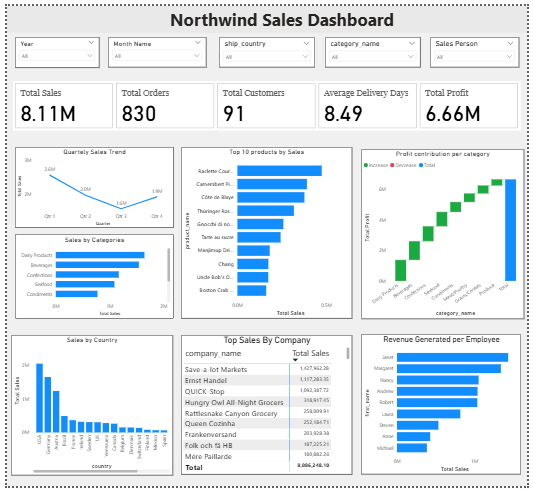

The page's visual inventory and layout, read from the dashboard file:
{"tool":"powerbi","page":{"name":"Page 1","canvas":[1300,1200],"ordinal":0},"visuals":[{"type":"textbox","box":[0,0,1386.1,55.6],"z":0},{"type":"cardVisual","fields":{"Data":["northsales order_details.Total Sales","DateTable.Total Orders","northsales customers.Total Customers","northsales order_details.Average Delivery Days","northsales order_details.Total Profit"]},"box":[11.4,168.6,1268.6,124.3],"z":1000},{"type":"slicer","fields":{"Values":["DateTable.Year"]},"box":[20,77.1,211.4,77.1],"z":2000},{"type":"slicer","fields":{"Values":["DateTable.Month Name"]},"box":[252.9,77.1,245.7,75.7],"z":3000},{"type":"slicer","fields":{"Values":["northsales categories.category_name"]},"box":[795.7,77.1,238.6,75.7],"z":4000},{"type":"slicer","fields":{"Values":["northsales employees.first_name"]},"box":[1057.1,77.1,222.9,75.7],"z":5000},{"type":"slicer","fields":{"Values":["northsales orders.ship_country"]},"box":[530,77.1,240,75.7],"z":6000},{"type":"lineChart","title":"Quartely Sales Trend","fields":{"Category":["DateTable.Date.Variation.Date Hierarchy.Year","DateTable.Date.Variation.Date Hierarchy.Quarter","DateTable.Date.Variation.Date Hierarchy.Month","DateTable.Date.Variation.Date Hierarchy.Day"],"Y":["northsales order_details.Total Sales"]},"box":[20,321.4,405.7,211.4],"z":7000},{"type":"clusteredBarChart","title":"Sales by Categories","fields":{"Category":["northsales categories.category_name"],"Y":["northsales order_details.Total Sales"]},"box":[18.6,555.7,405.7,194.3],"z":8000},{"type":"clusteredBarChart","title":"Top 10 products by Sales","fields":{"Category":["northsales products.product_name"],"Y":["northsales order_details.Total Sales"]},"box":[450,321.4,398.6,428.6],"z":9000},{"type":"waterfallChart","title":"Profit contribution per category","fields":{"Category":["northsales categories.category_name"],"Y":["northsales order_details.Total Profit"]},"box":[871.4,324.3,407.1,425.7],"z":10000},{"type":"columnChart","title":"Sales by Country","fields":{"Y":["northsales order_details.Total Sales"],"Category":["northsales customers.country"]},"box":[20,782.9,404.3,350],"z":10001},{"type":"pivotTable","title":"Top Sales By Company","fields":{"Rows":["northsales customers.company_name"],"Values":["northsales order_details.Total Sales"]},"box":[435.7,782.9,428.6,350],"z":10002},{"type":"clusteredBarChart","title":"Revenue Generated per Employee","fields":{"Category":["northsales employees.first_name"],"Y":["northsales order_details.Total Sales"]},"box":[880,782.9,398.6,350],"z":10003}]}

Visuals, with their boxes in screenshot pixels (x1, y1, x2, y2), scaled from the page's 1300x1200 canvas onto the 533x490 screenshot:
textbox: [0, 0, 532, 23]
cardVisual - northsales order_details.Total Sales x DateTable.Total Orders: [5, 69, 525, 120]
slicer - DateTable.Year: [8, 31, 95, 63]
slicer - DateTable.Month Name: [104, 31, 204, 62]
slicer - northsales categories.category_name: [326, 31, 424, 62]
slicer - northsales employees.first_name: [433, 31, 525, 62]
slicer - northsales orders.ship_country: [217, 31, 316, 62]
"Quartely Sales Trend" lineChart: [8, 131, 175, 218]
"Sales by Categories" clusteredBarChart: [8, 227, 174, 306]
"Top 10 products by Sales" clusteredBarChart: [184, 131, 348, 306]
"Profit contribution per category" waterfallChart: [357, 132, 524, 306]
"Sales by Country" columnChart: [8, 320, 174, 463]
"Top Sales By Company" pivotTable: [179, 320, 354, 463]
"Revenue Generated per Employee" clusteredBarChart: [361, 320, 524, 463]
